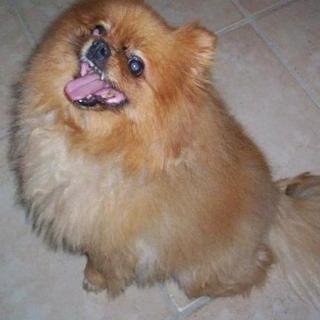dog: (20, 0, 217, 163)
nose: (88, 33, 114, 60)
